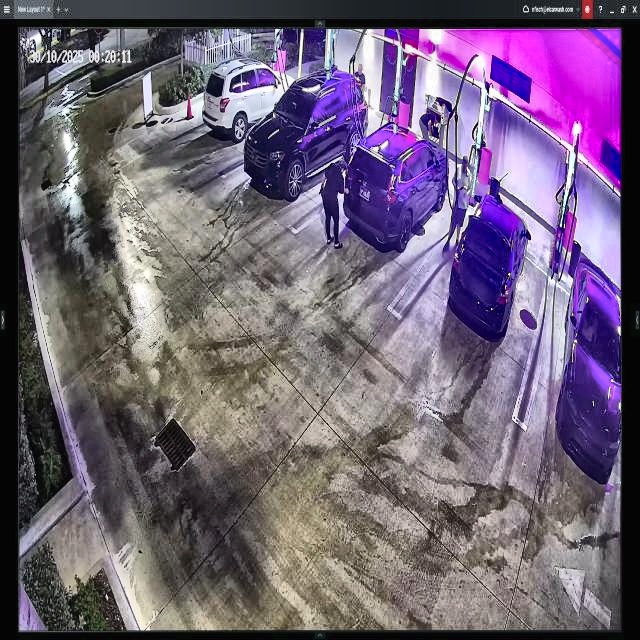Car: (244, 72, 368, 200), (342, 123, 448, 247), (452, 190, 528, 338)
